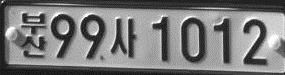0: (179, 16, 206, 62)
1: (150, 17, 175, 61), (212, 18, 236, 63)
2: (242, 18, 268, 65)
9: (79, 13, 106, 59), (50, 12, 76, 58)
부산_V: (20, 11, 47, 57)
사: (109, 17, 138, 58)
